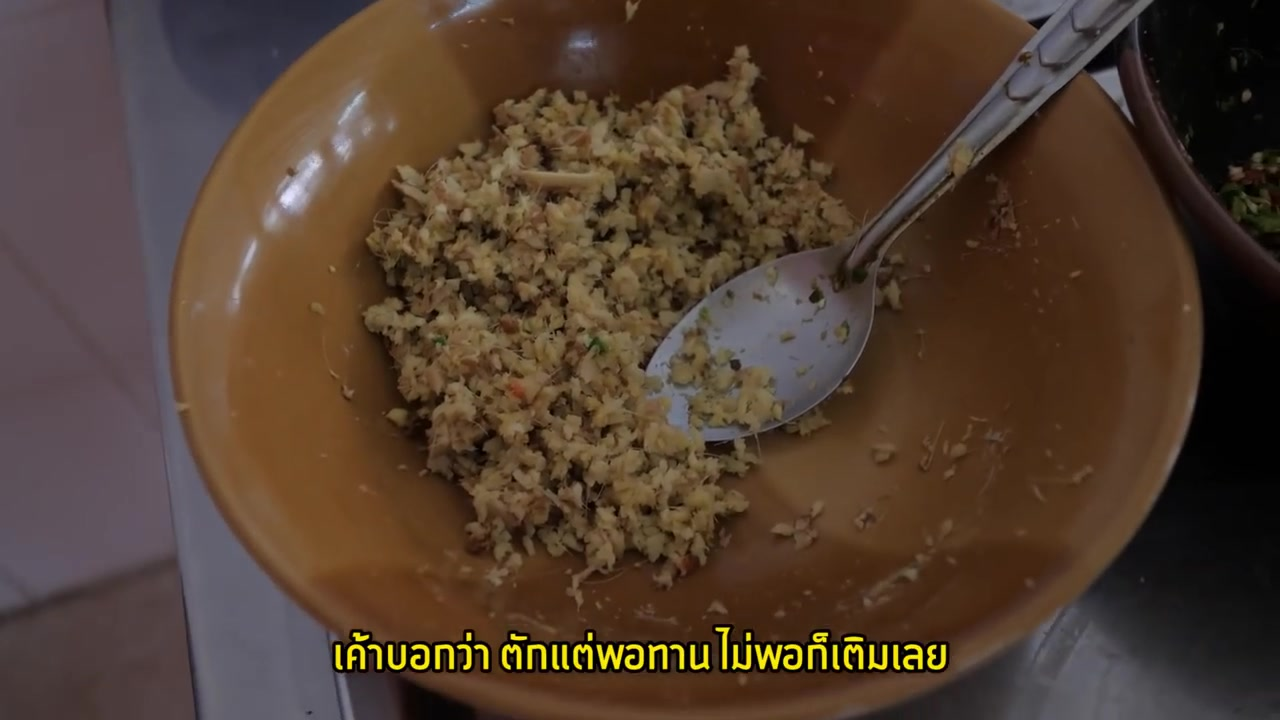text-label: (327, 620, 951, 674)
